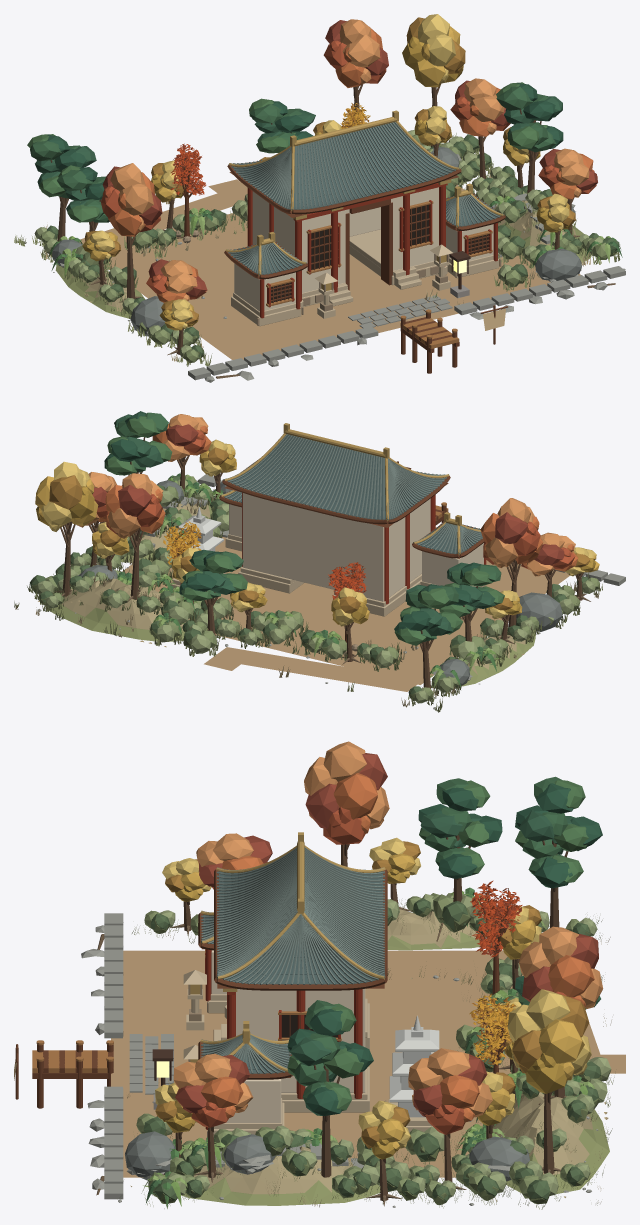
The model's file is geumseong.glb.
3 renders of one model, top to bottom at view 1: azimuth 30°, elevation 25°; view 2: azimuth 150°, elevation 25°; view 3: azimuth 270°, elevation 25°, orthographic. The views are drawn at different scales.
Parts seen in each view (by area): view 1: geumseong; view 2: geumseong; view 3: geumseong.
Part boxes in pixels (x1,y1,x2,y2): geumseong: (14,14,625,382); geumseong: (14,411,625,712); geumseong: (14,741,625,1209).
Size of the model in its own units: 7.85 by 2.96 by 6.84.
